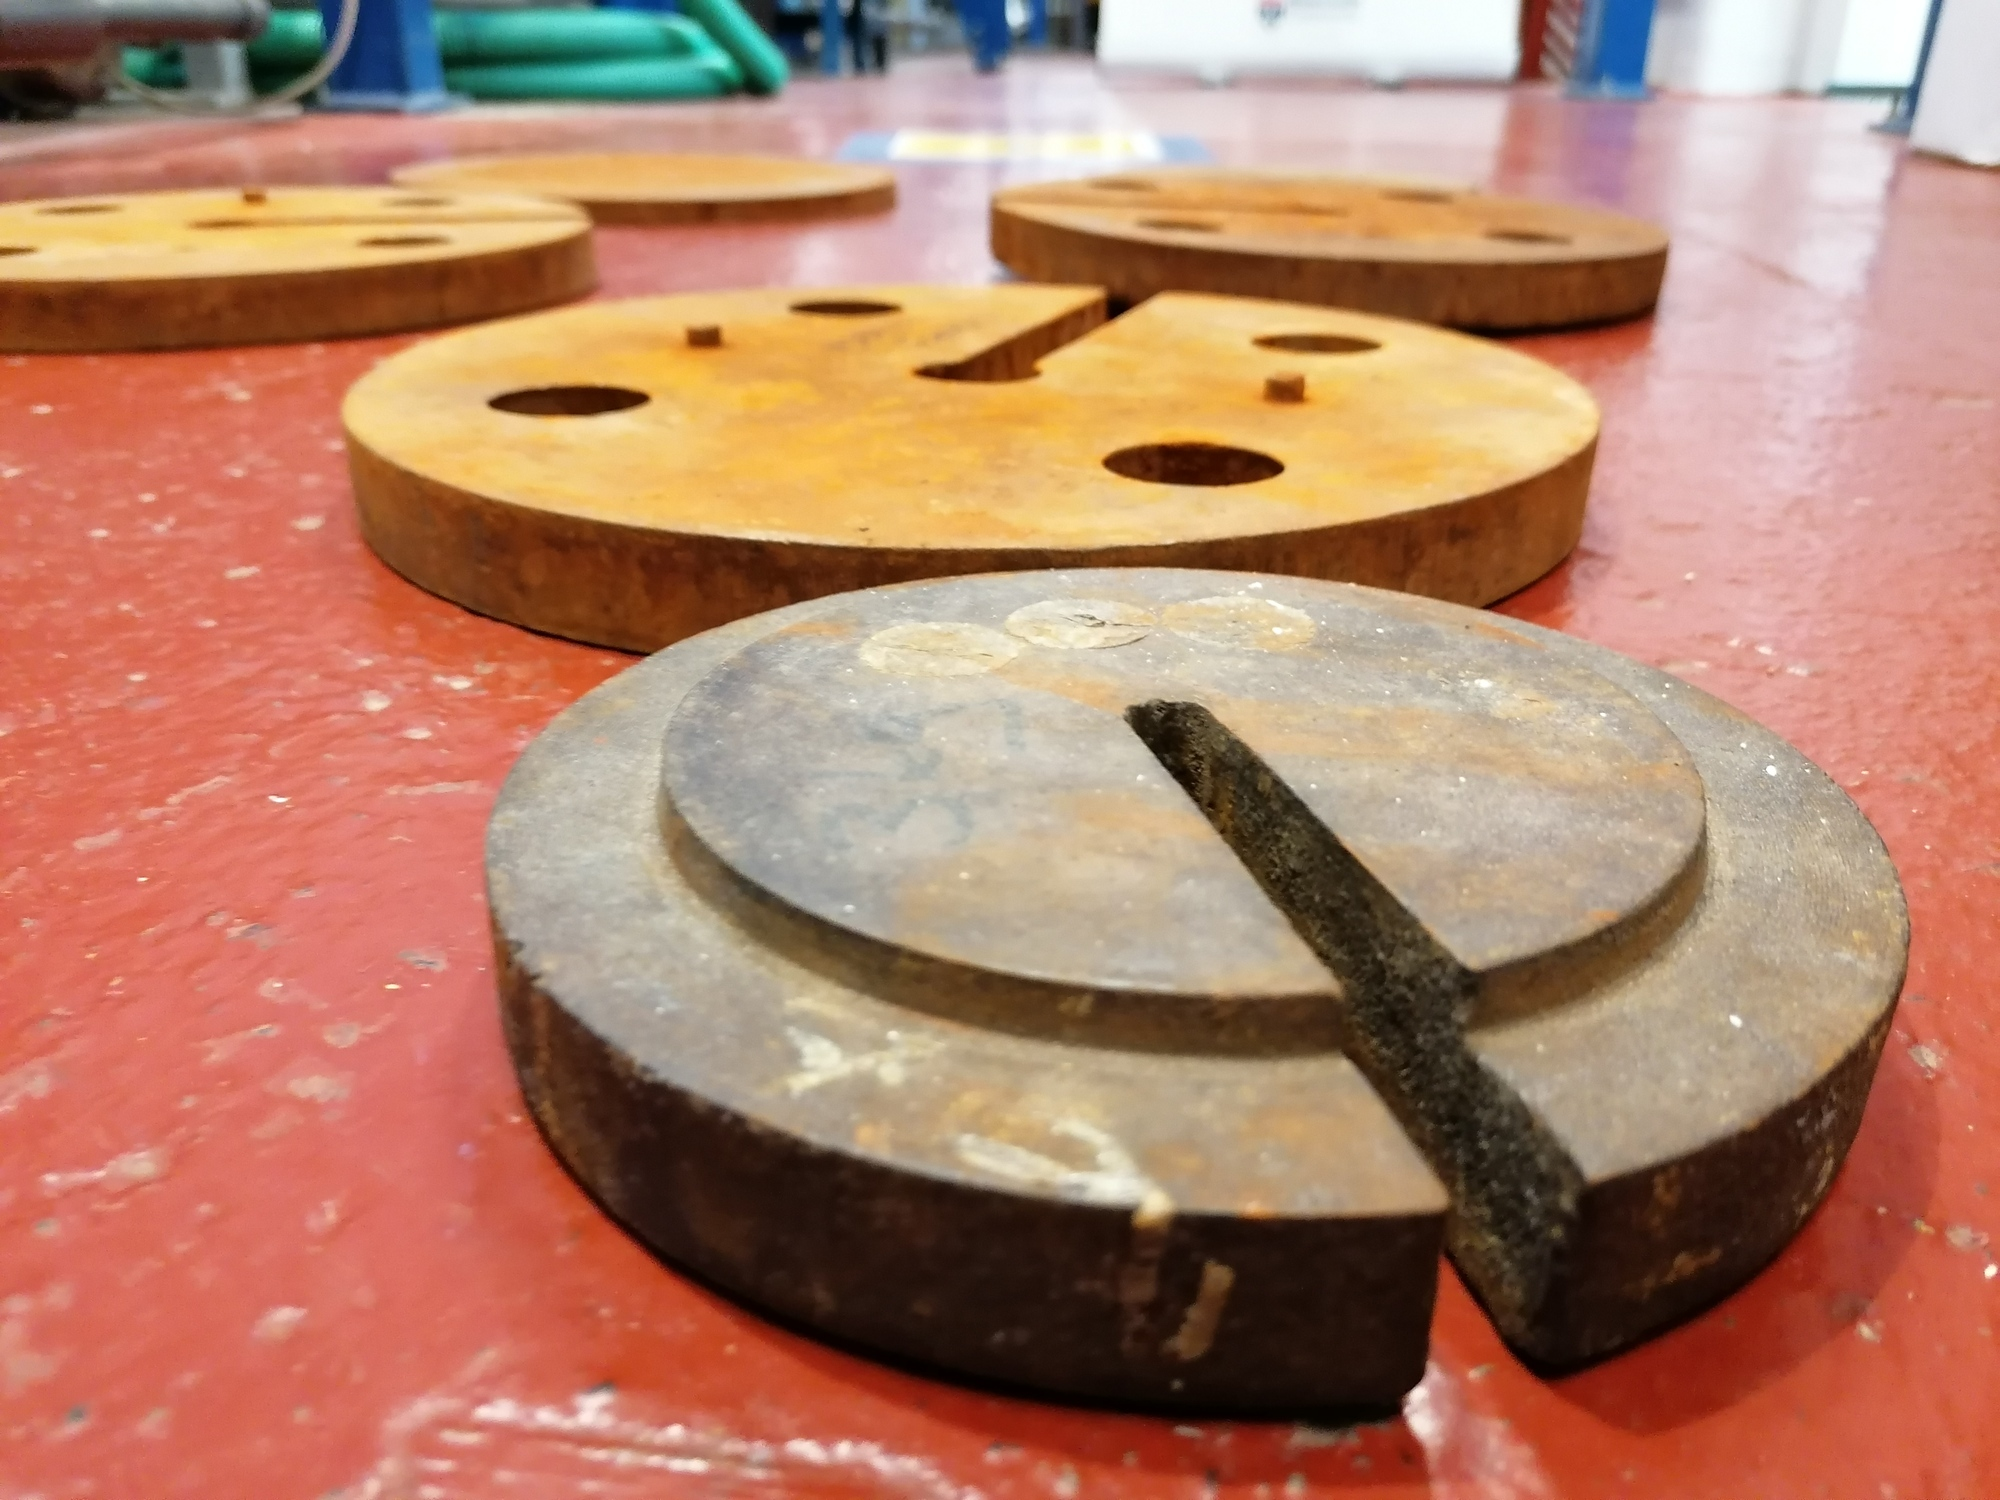flange: (480, 566, 1913, 1426), (337, 280, 1603, 655), (987, 172, 1669, 329), (2, 183, 594, 358), (387, 150, 899, 228)
